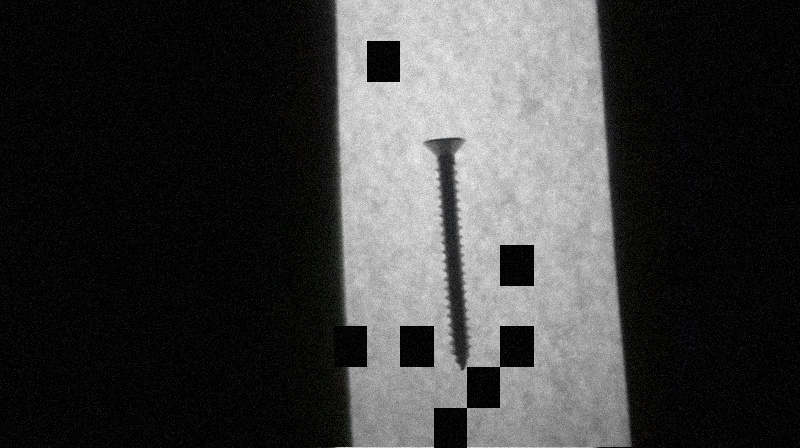S002: (419, 133, 474, 374)
